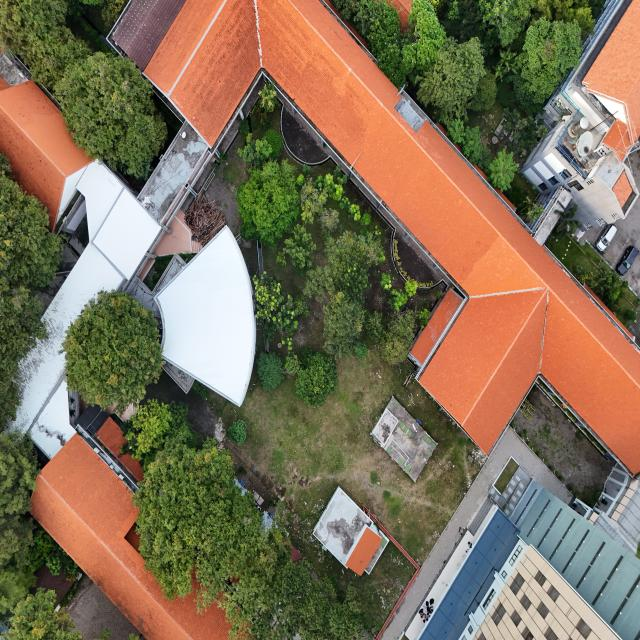Tree: (65, 292, 162, 404), (323, 294, 362, 350), (296, 351, 335, 406), (487, 145, 519, 192), (258, 352, 284, 391), (462, 126, 483, 164), (228, 418, 248, 447), (259, 82, 278, 112), (497, 45, 518, 71), (447, 115, 465, 145), (389, 288, 407, 310), (380, 271, 392, 291), (348, 204, 361, 222), (404, 279, 417, 296)
